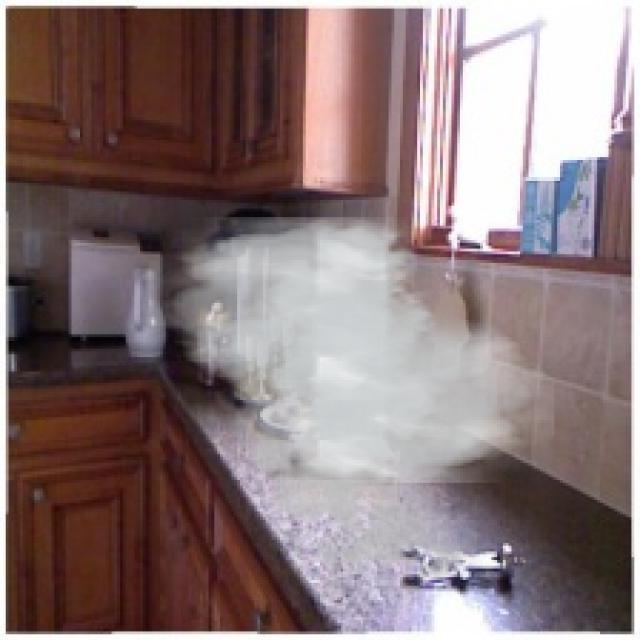Smoke: (148, 217, 554, 594)
